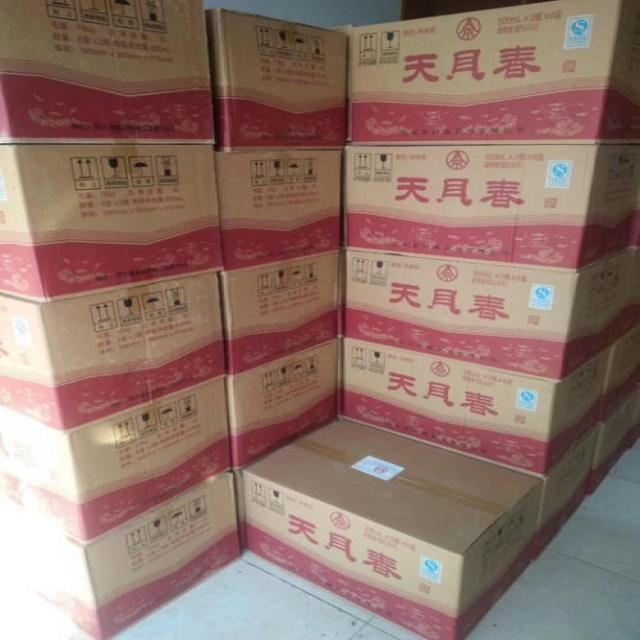box: (243, 420, 541, 639), (348, 0, 640, 146), (344, 249, 640, 383), (343, 336, 609, 477), (344, 145, 640, 270), (0, 273, 228, 431), (0, 144, 223, 302), (45, 379, 233, 543), (0, 0, 214, 144), (68, 472, 241, 639), (205, 8, 348, 153), (219, 250, 347, 377), (215, 151, 343, 272), (224, 339, 343, 469), (532, 431, 595, 561), (590, 390, 640, 497), (600, 325, 640, 422)
